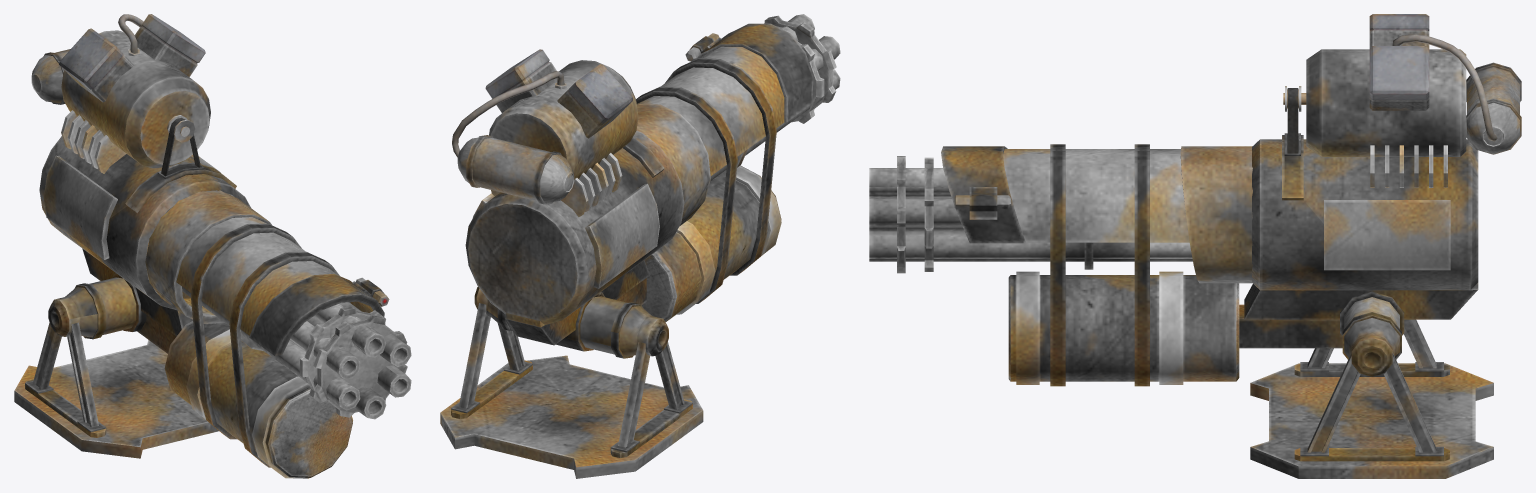
3 views of the same model, side by side, from view 1: azimuth 30°, elevation 25°; view 2: azimuth 150°, elevation 25°; view 3: azimuth 270°, elevation 25° (orthographic). The views are drawn at different scales.
Parts seen in each view (by area): view 1: body, turret, rotate; view 2: body, turret, rotate; view 3: body, turret, rotate.
Part boxes in pixels (box(x1,y1,x2,y2)): body: box(31, 14, 389, 478); turret: box(14, 273, 218, 458); rotate: box(182, 286, 411, 419); body: box(452, 23, 813, 345); turret: box(440, 287, 703, 478); rotate: box(710, 14, 840, 181); body: box(941, 14, 1521, 386); turret: box(1250, 291, 1493, 478); rotate: box(869, 156, 1192, 273).
Size of the model in its own units: 0.3325 by 0.5968 by 0.8888.
